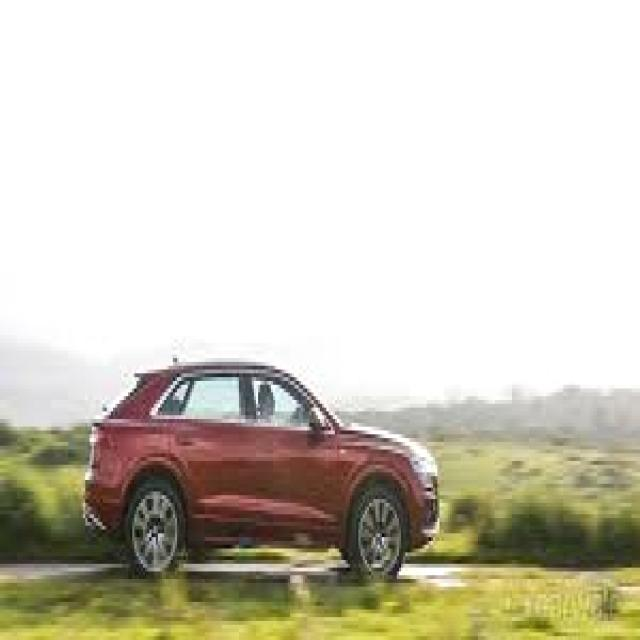SUV: (80, 349, 442, 578)
